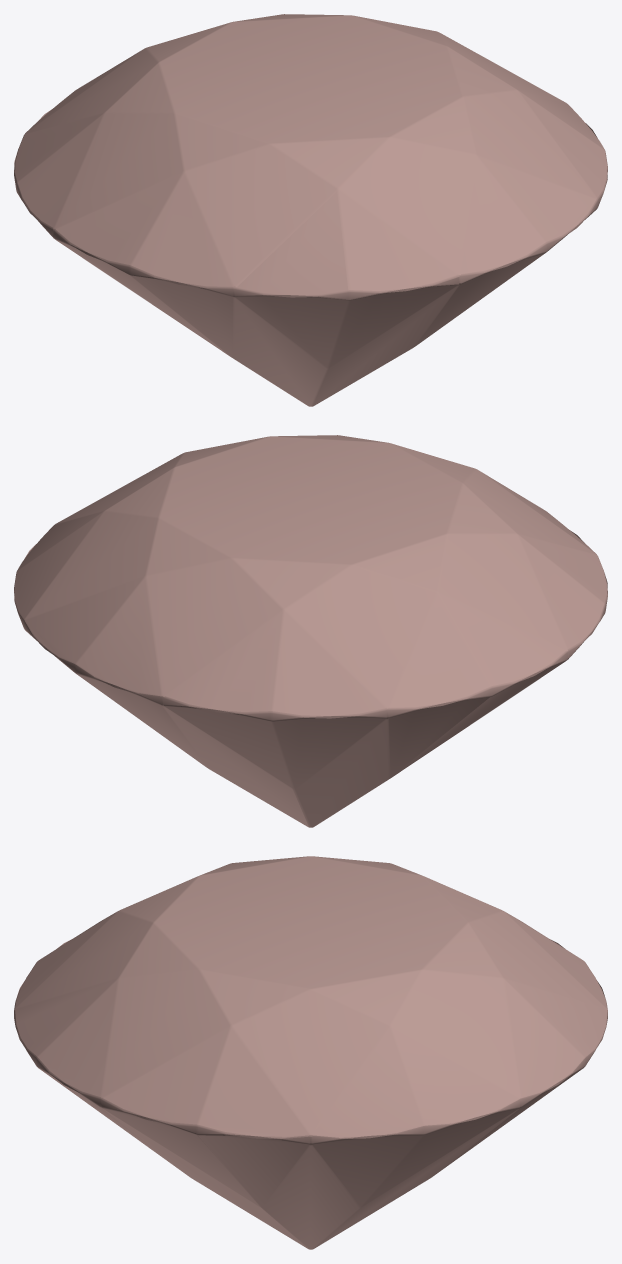
3 views of the same model, one above another, from view 1: azimuth 30°, elevation 25°; view 2: azimuth 150°, elevation 25°; view 3: azimuth 270°, elevation 25° (orthographic).
Visible parts, largest first — view 1: split_parent_0; view 2: split_parent_0; view 3: split_parent_0.
Boxes of the visible parts, x1,y1,x2,y2 form: split_parent_0: (14,14,607,406); split_parent_0: (14,435,607,827); split_parent_0: (14,856,607,1249).
Size of the model in its own units: 1 by 0.6076 by 1.
